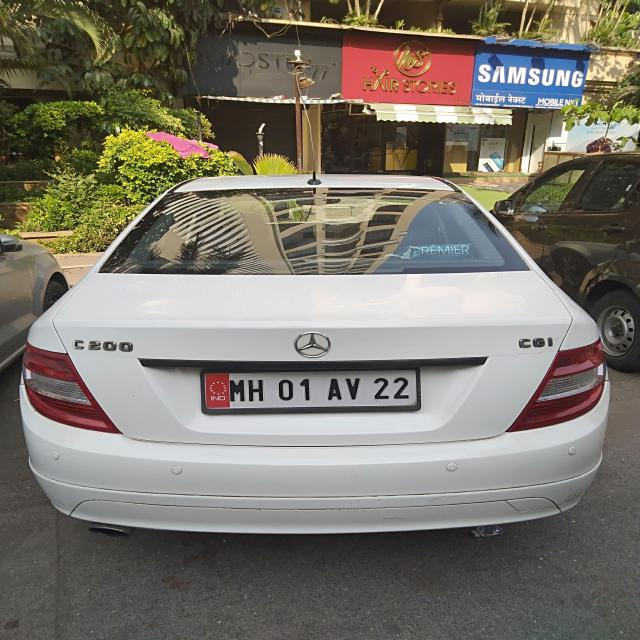Number-Plate: (206, 371, 421, 411)
